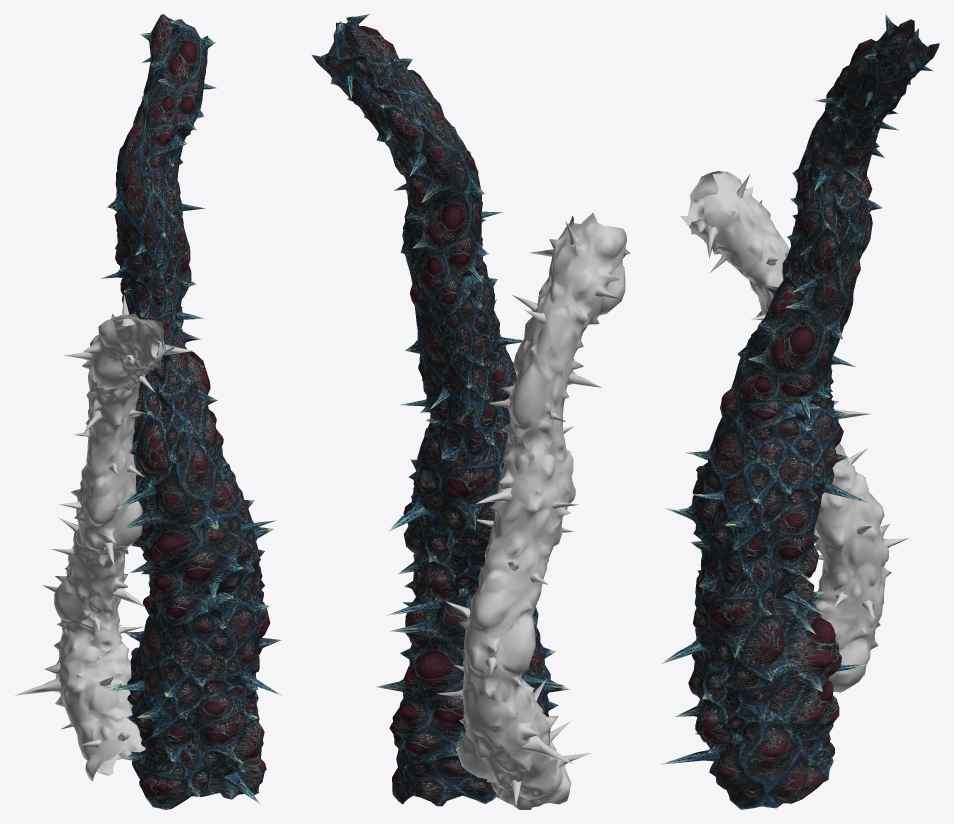
File: backup.fbx
3 renders of one model, left to right at view 1: azimuth 30°, elevation 25°; view 2: azimuth 150°, elevation 25°; view 3: azimuth 270°, elevation 25°, orthographic. The views are drawn at different scales.
Visible parts, largest first — view 1: LODGroup_1_MainMesh_1_SubMesh_2, LODGroup_1_MainMesh_1_SubMesh_3, LODGroup_1_MainMesh_1_SubMesh_1; view 2: LODGroup_1_MainMesh_1_SubMesh_1, LODGroup_1_MainMesh_1_SubMesh_2, LODGroup_1_MainMesh_1_SubMesh_3; view 3: LODGroup_1_MainMesh_1_SubMesh_2, LODGroup_1_MainMesh_1_SubMesh_3, LODGroup_1_MainMesh_1_SubMesh_1.
Boxes of the visible parts, x1,y1,x2,y2 form: LODGroup_1_MainMesh_1_SubMesh_2: (101, 14, 281, 804); LODGroup_1_MainMesh_1_SubMesh_3: (107, 22, 273, 809); LODGroup_1_MainMesh_1_SubMesh_1: (15, 295, 193, 781); LODGroup_1_MainMesh_1_SubMesh_1: (437, 212, 630, 809); LODGroup_1_MainMesh_1_SubMesh_2: (341, 14, 564, 806); LODGroup_1_MainMesh_1_SubMesh_3: (311, 21, 569, 803); LODGroup_1_MainMesh_1_SubMesh_2: (660, 14, 933, 809); LODGroup_1_MainMesh_1_SubMesh_3: (675, 43, 939, 776); LODGroup_1_MainMesh_1_SubMesh_1: (680, 171, 908, 692).
Size of the model in its own units: 574 by 1909 by 619.
